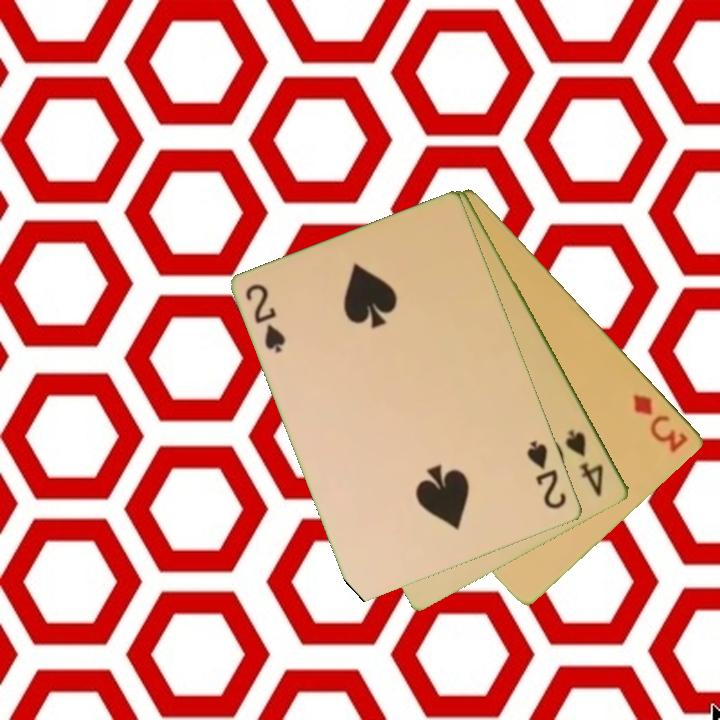2s: (523, 437, 570, 513), (242, 280, 289, 356)
3d: (629, 390, 692, 456)
4s: (562, 425, 607, 500)
